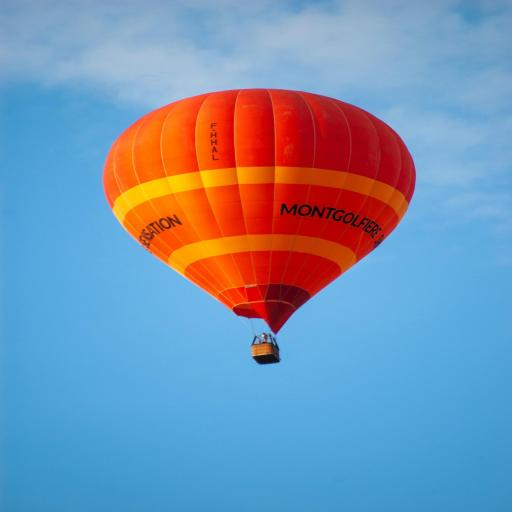hot air ballon: (101, 88, 416, 365)
